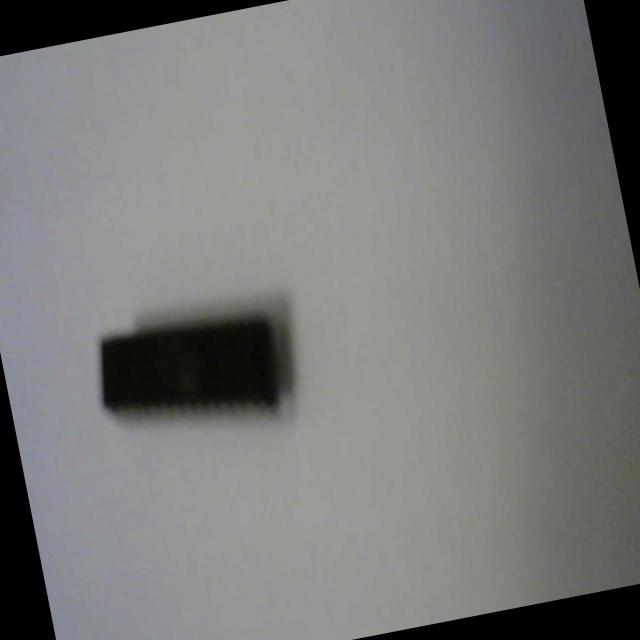atmega: (84, 284, 310, 456)
